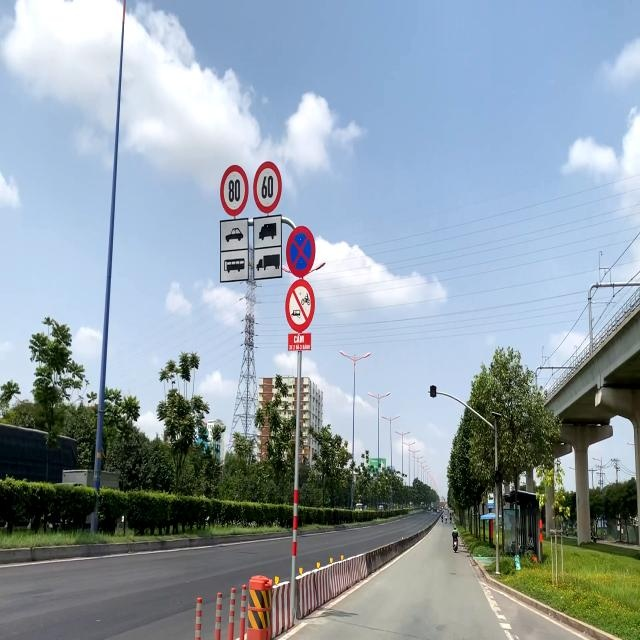bien_cam: (252, 161, 282, 214), (286, 225, 316, 277), (220, 164, 249, 217)
